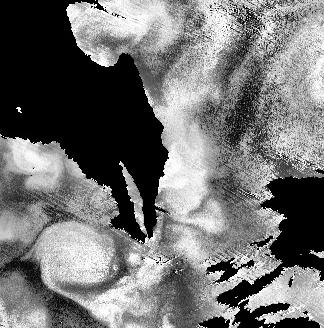AE: (26, 215, 126, 299)
